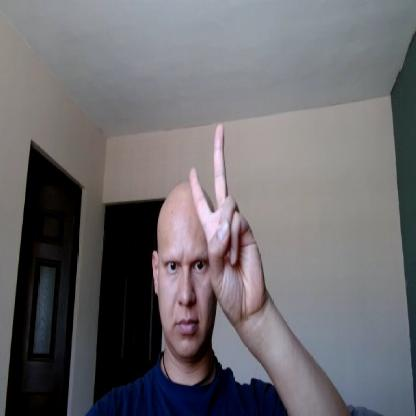V: (190, 121, 266, 325)
